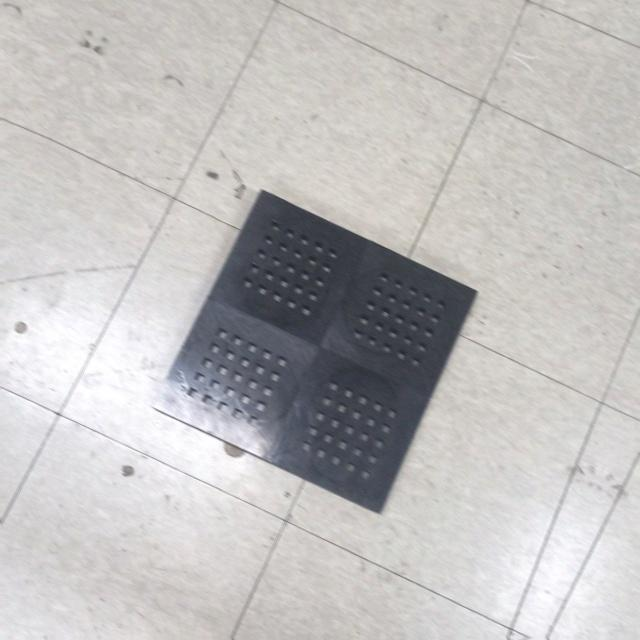pallet: (145, 180, 490, 526)
